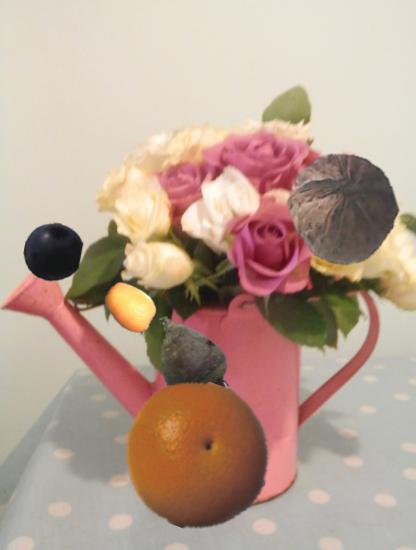Beetroot: (136, 306, 238, 408)
Grape: (24, 223, 83, 282)
Grapefruit: (124, 382, 272, 530)
Kumquats: (103, 280, 158, 335)
Walnut: (285, 150, 402, 267)
